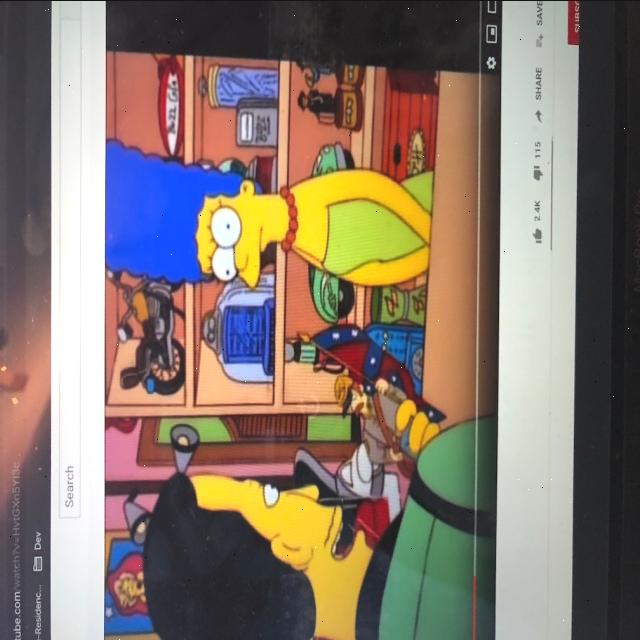Marge Simpson: (104, 130, 300, 292)
